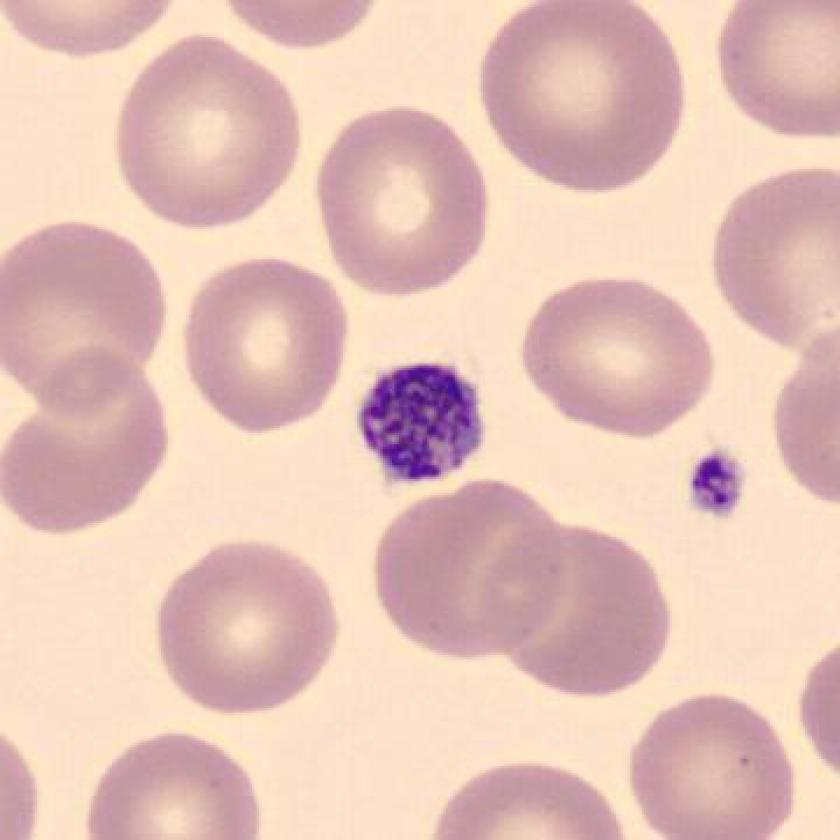platelets: (349, 358, 493, 492), (685, 436, 752, 533)
